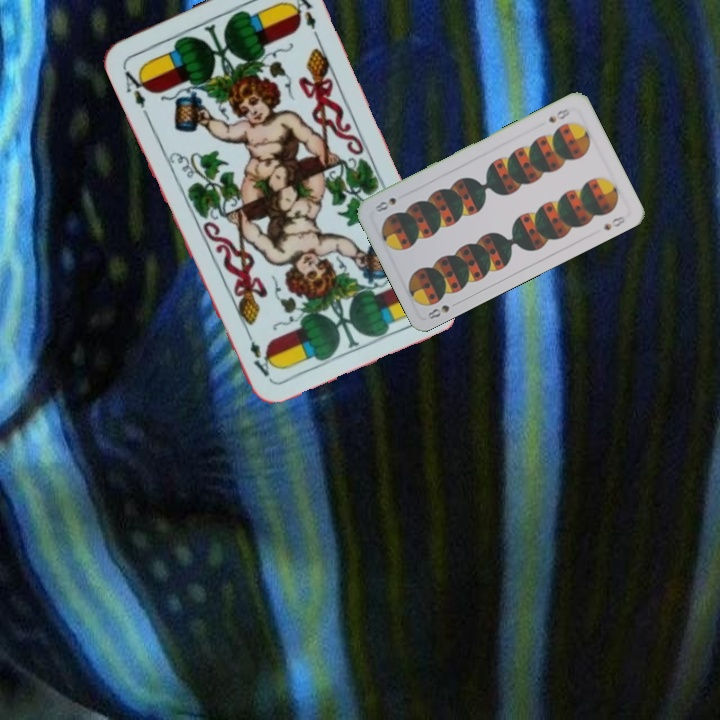EA: (119, 63, 152, 118)
S8: (423, 297, 462, 322), (544, 104, 572, 125)
